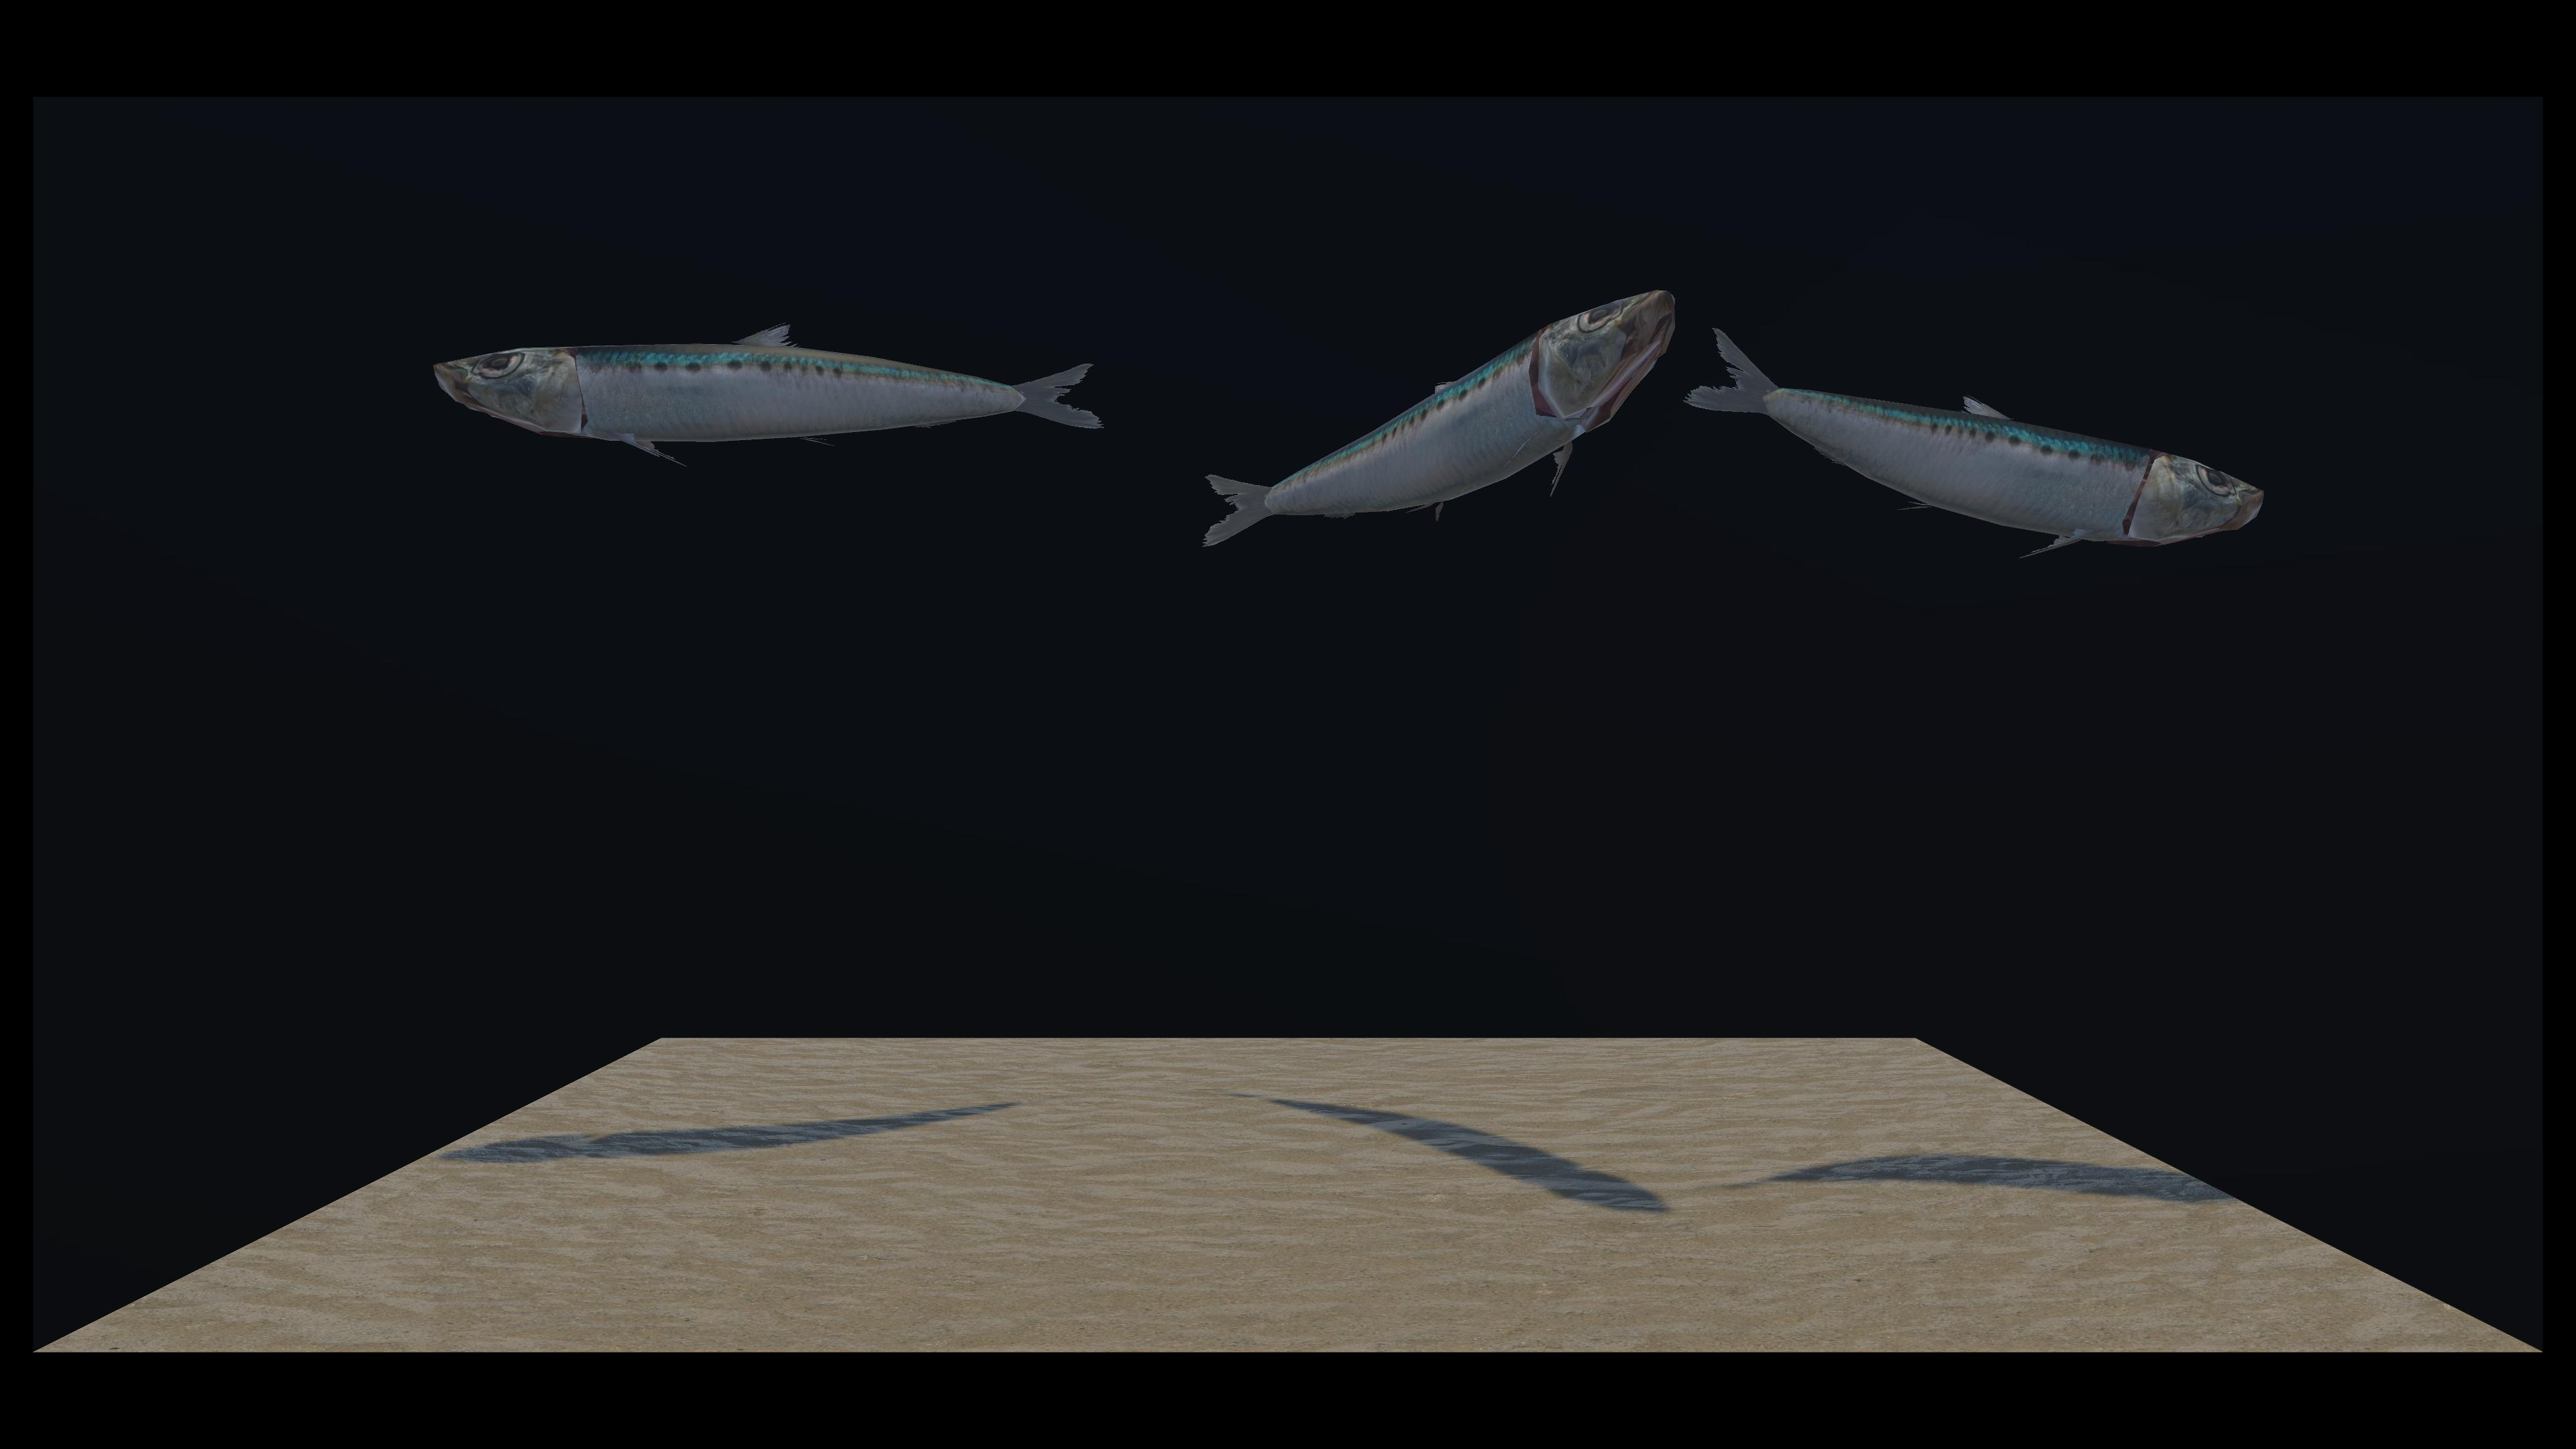Sardine_Front: (886, 326, 2256, 568), (662, 292, 1663, 547), (444, 295, 1093, 476)
